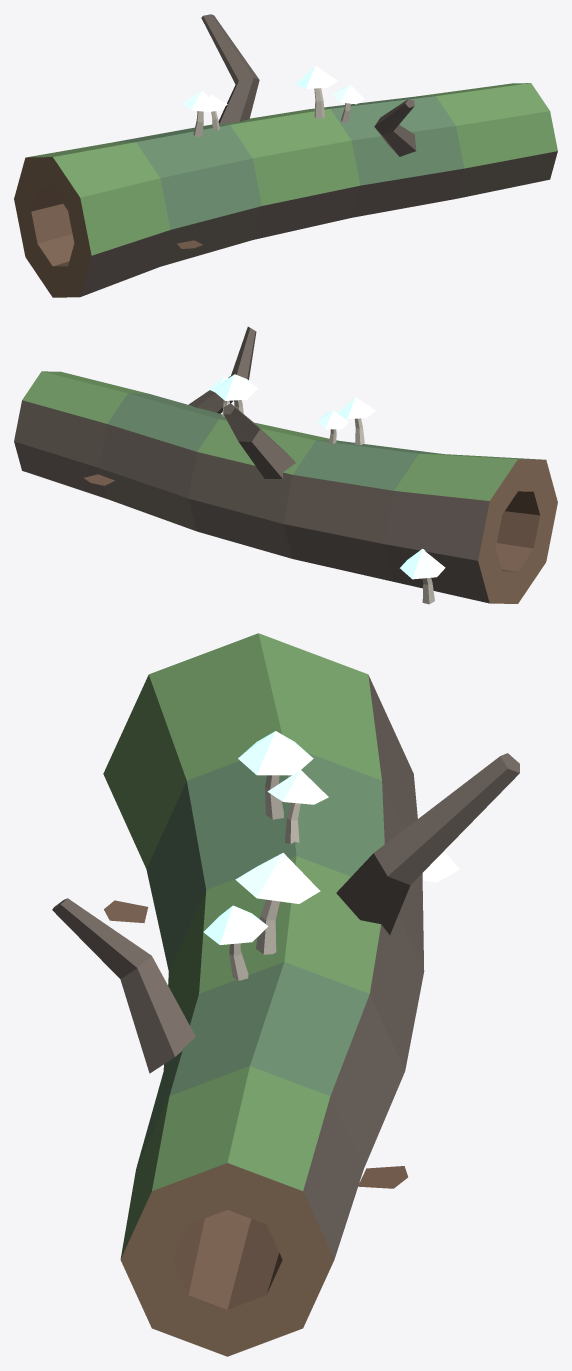
Rendered from outdoor_tree_log.glb.
3 views of the same model, one above another, from view 1: azimuth 30°, elevation 25°; view 2: azimuth 150°, elevation 25°; view 3: azimuth 270°, elevation 25° (orthographic). The views are drawn at different scales.
Parts seen in each view (by area): view 1: Outdoor_Tree_Log; view 2: Outdoor_Tree_Log; view 3: Outdoor_Tree_Log.
Boxes of the visible parts, x1,y1,x2,y2 form: Outdoor_Tree_Log: [14, 14, 557, 297]; Outdoor_Tree_Log: [14, 326, 557, 604]; Outdoor_Tree_Log: [52, 633, 519, 1356].
Bounding box in the file's own units: 6.3 × 2.38 × 2.71.
